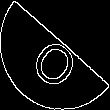O_NE: (25, 22, 85, 88)
